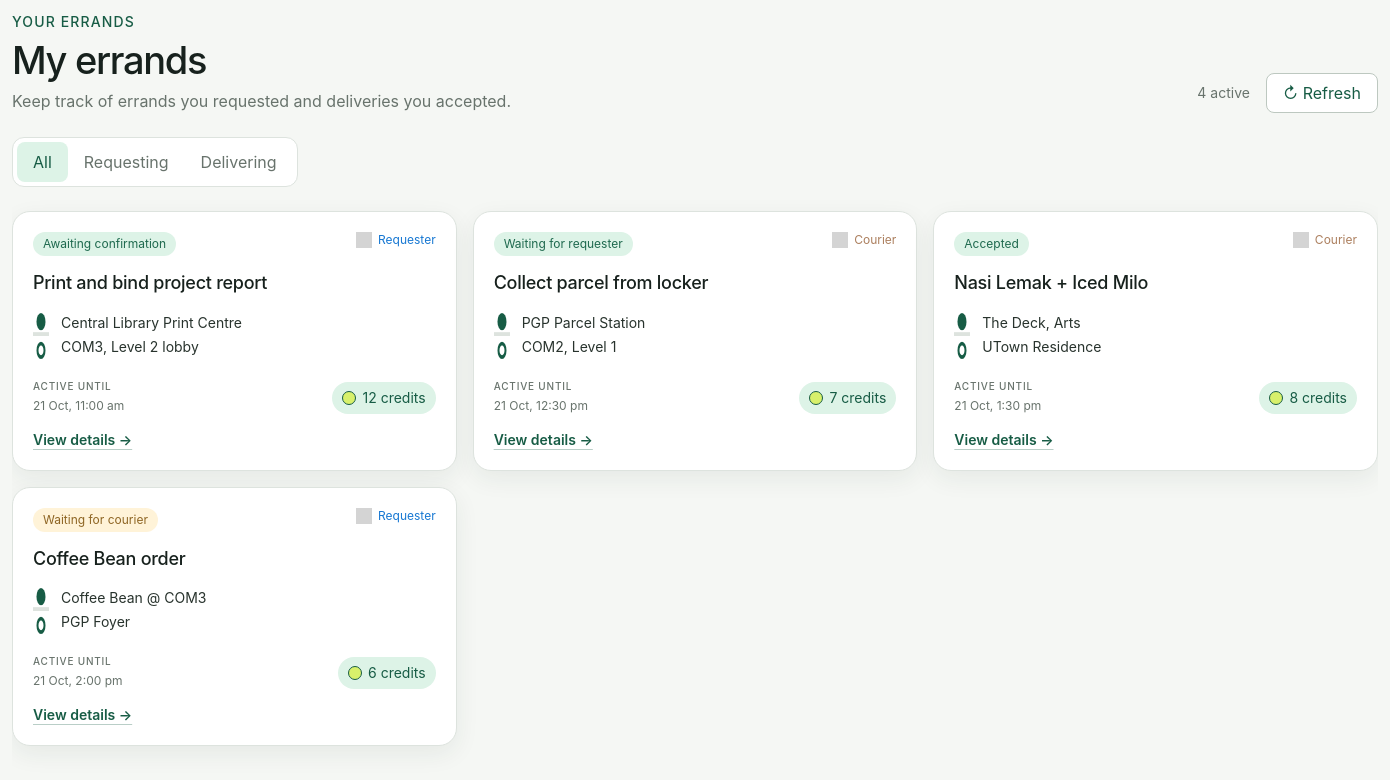
Test case: MyErrandsPage › filters errands by the user role
Check: the text "4 active" is shown, box [1197,83,1250,103]
Click the button "Requesting": [126, 162] box [68,142,185,182]
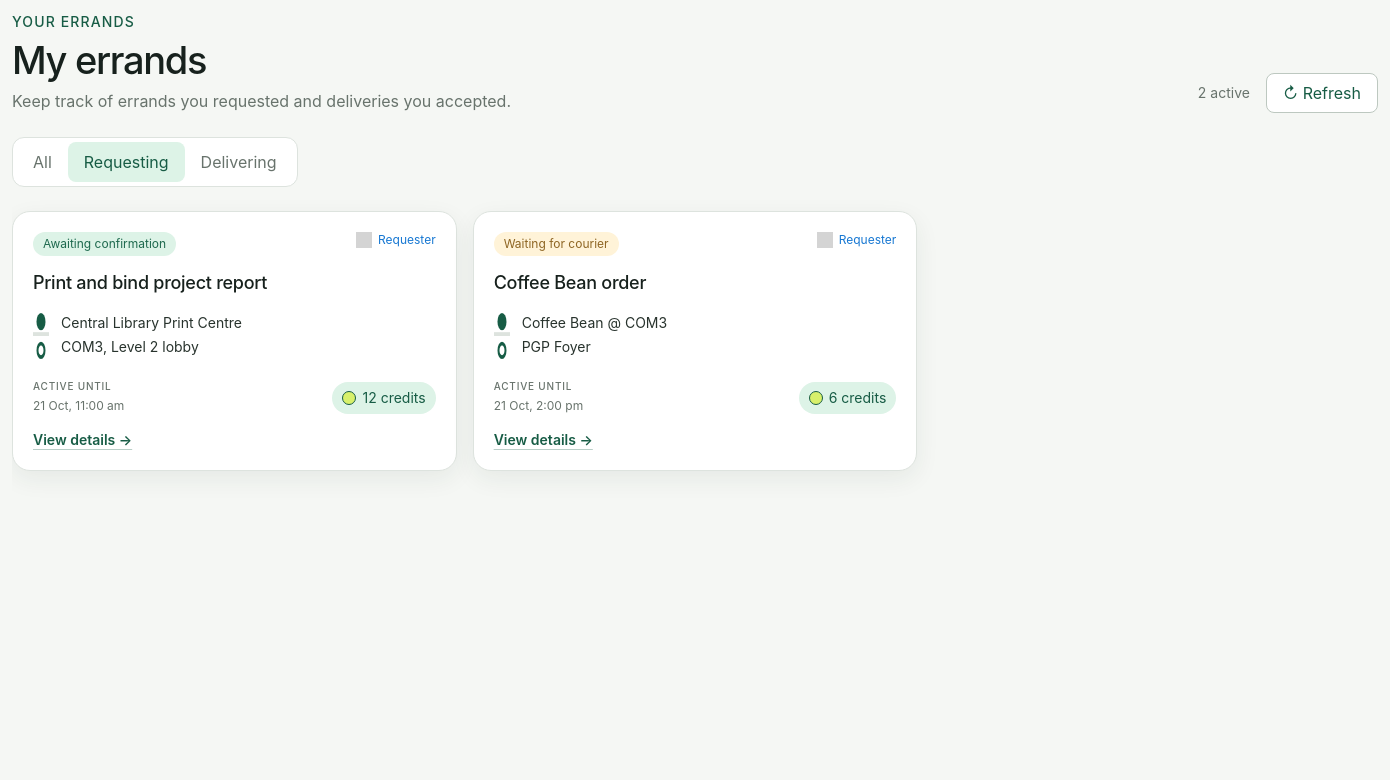
Check: the text "Requester" in the row of "Awaiting confirmation" is shown, box [378,232,436,247]
Check: the text "2 active" is shown, box [1198,83,1250,103]
Click the button "Delivering": [239, 162] box [185,142,293,182]
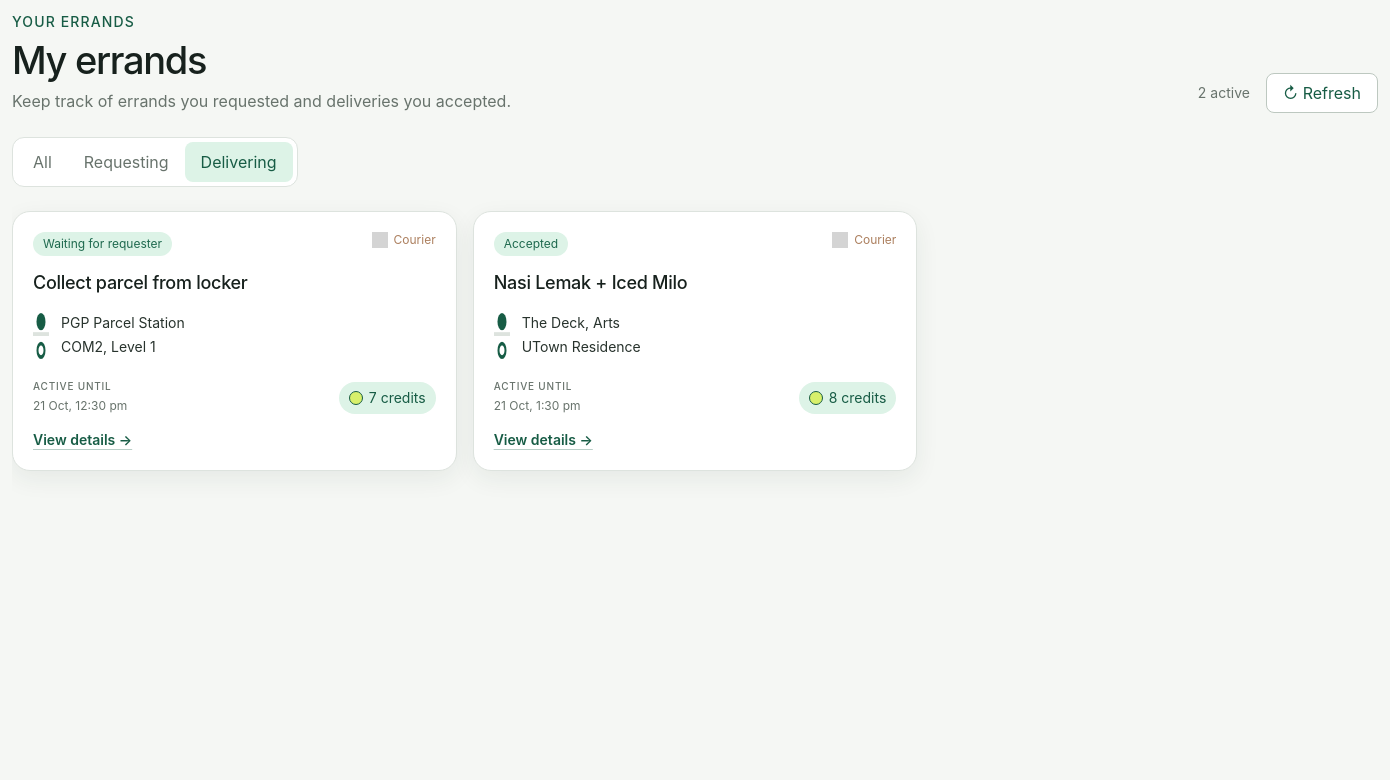
Check: the text "2 active" is shown, box [1198,83,1250,103]
Check: the text "Courier" in the row of "Waiting for requester" is shown, box [394,232,436,247]
Check: the 2nd text "Courier" is shown, box [832,232,896,248]
